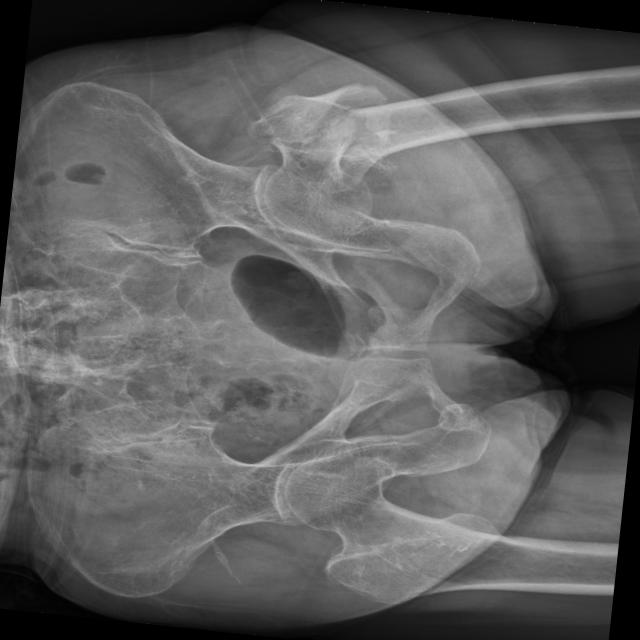left-intertrochanteric: (246, 80, 386, 236), (331, 93, 450, 193)
normal-right: (283, 452, 618, 603)
